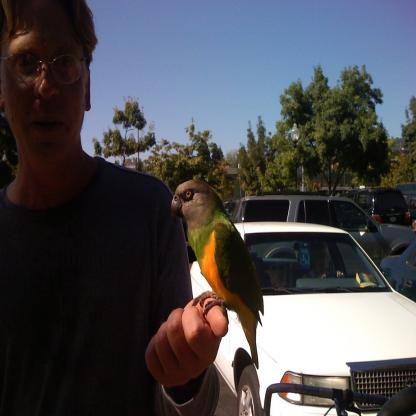Car: (190, 220, 416, 416), (237, 191, 416, 273), (338, 187, 410, 232), (380, 235, 415, 299)
